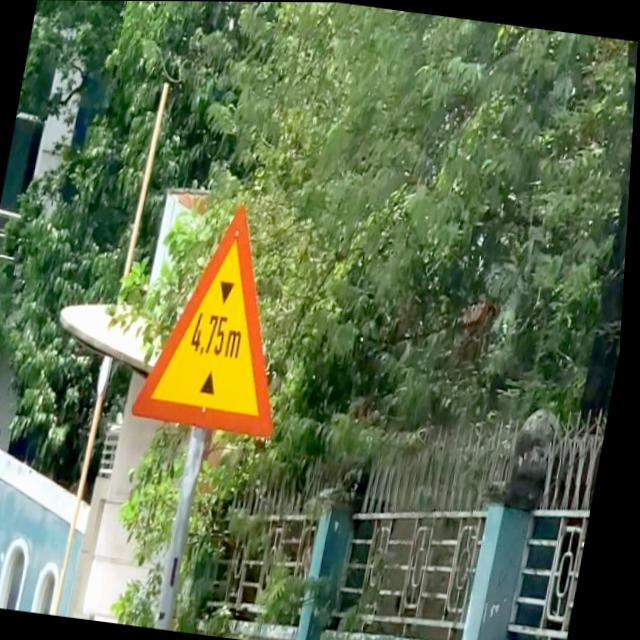Chieu cao an toan: (133, 193, 317, 439)
